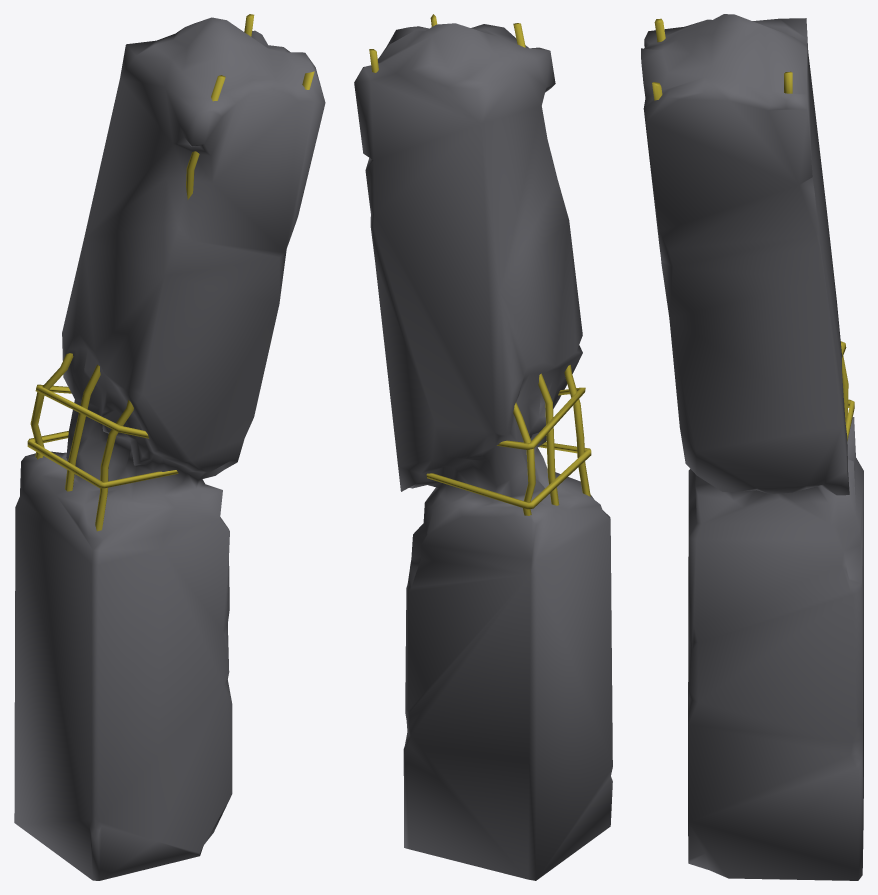
File: b_pillar_LP.FBX
3 renders of one model, left to right at view 1: azimuth 30°, elevation 25°; view 2: azimuth 150°, elevation 25°; view 3: azimuth 270°, elevation 25°, orthographic. The views are drawn at different scales.
Visible parts, largest first — view 1: column, wire; view 2: column, wire; view 3: column, wire.
Boxes of the visible parts, box(x1,y1,x2,y2) form: column: box(14, 17, 325, 880); wire: box(27, 14, 314, 531); column: box(354, 23, 612, 880); wire: box(369, 14, 591, 515); column: box(641, 14, 863, 880); wire: box(652, 18, 854, 440).
Bounding box in the file's own units: 81.8 × 289 × 67.15.
